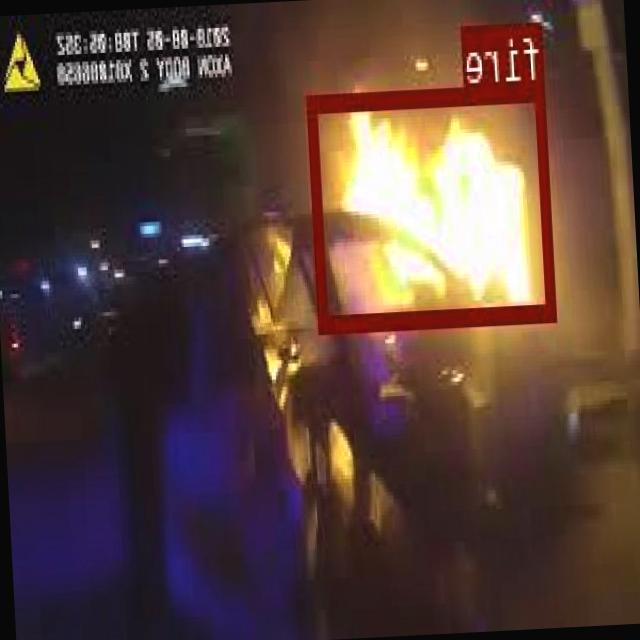fire: (309, 82, 557, 328)
